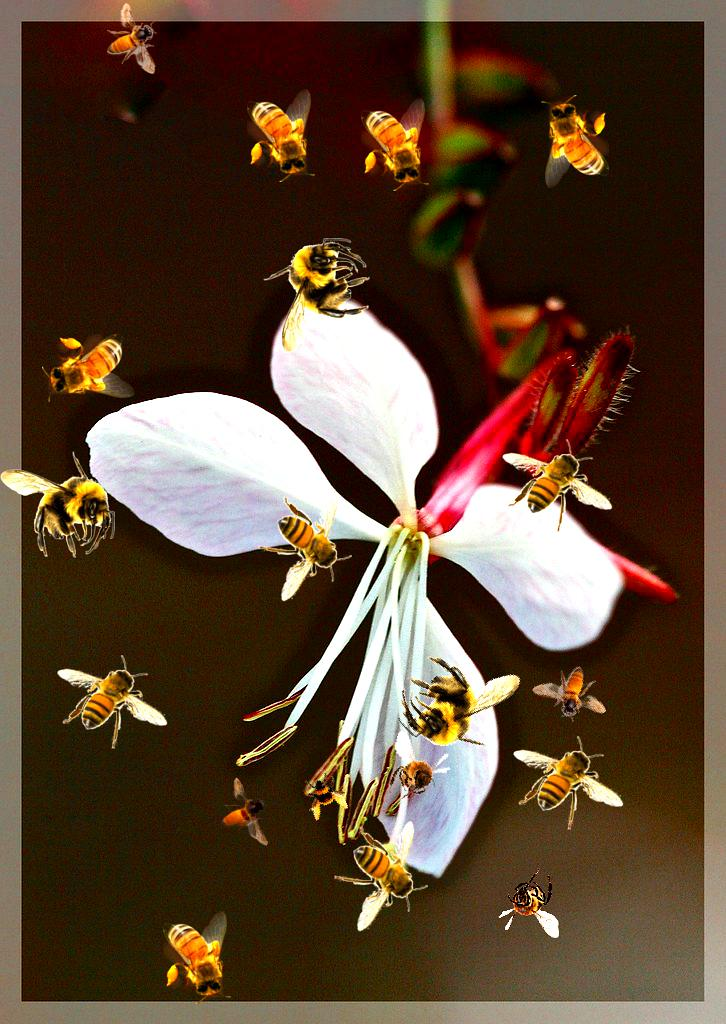Bee: (381, 621, 538, 780), (0, 451, 115, 558), (263, 238, 370, 353), (513, 736, 624, 830), (334, 821, 428, 932), (258, 491, 352, 602), (57, 655, 168, 749), (502, 439, 613, 533), (530, 652, 618, 737), (377, 730, 458, 816), (361, 98, 429, 191), (163, 911, 231, 1004), (247, 89, 315, 182), (42, 334, 135, 402), (541, 95, 609, 188), (498, 868, 559, 938), (106, 2, 158, 75), (218, 775, 270, 848), (296, 765, 356, 825)
